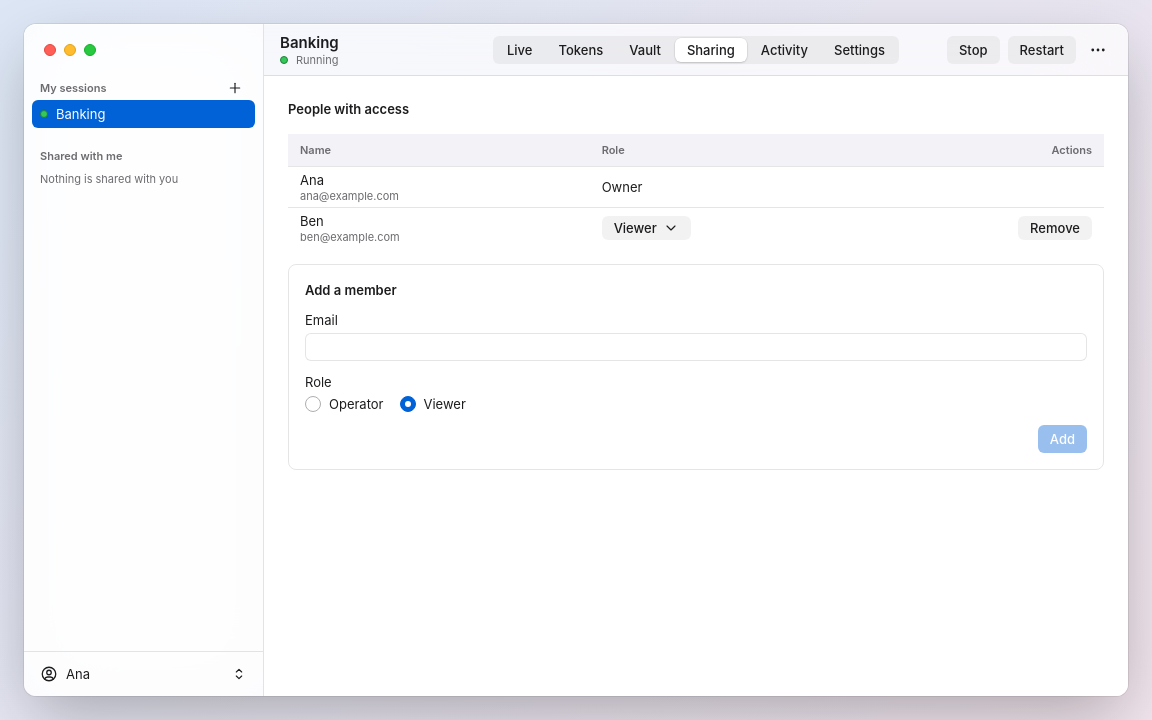
Test: Sharing view › shows the errors of a failed role change and a failed removal
The image size is (1152, 720).
Click the button with aria-label "Role of Ben: Viewer" at (646, 228), box [602,216,691,240]
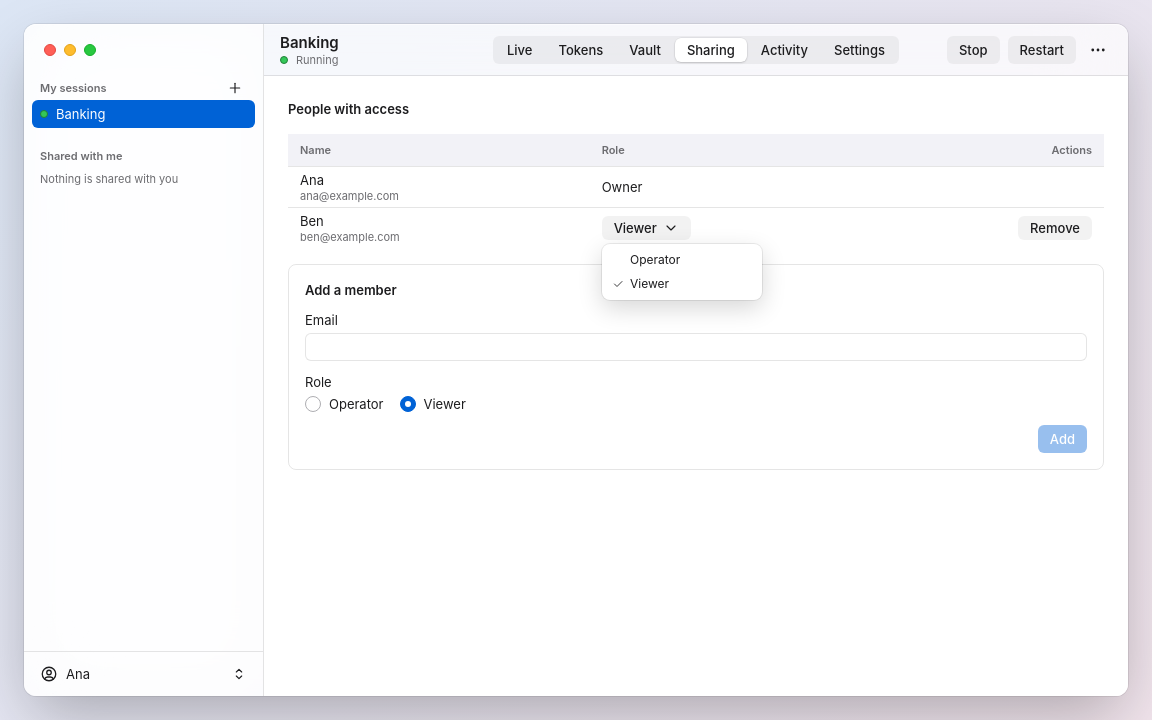
Click the menu item "Operator" at (655, 260), box [630,252,680,267]
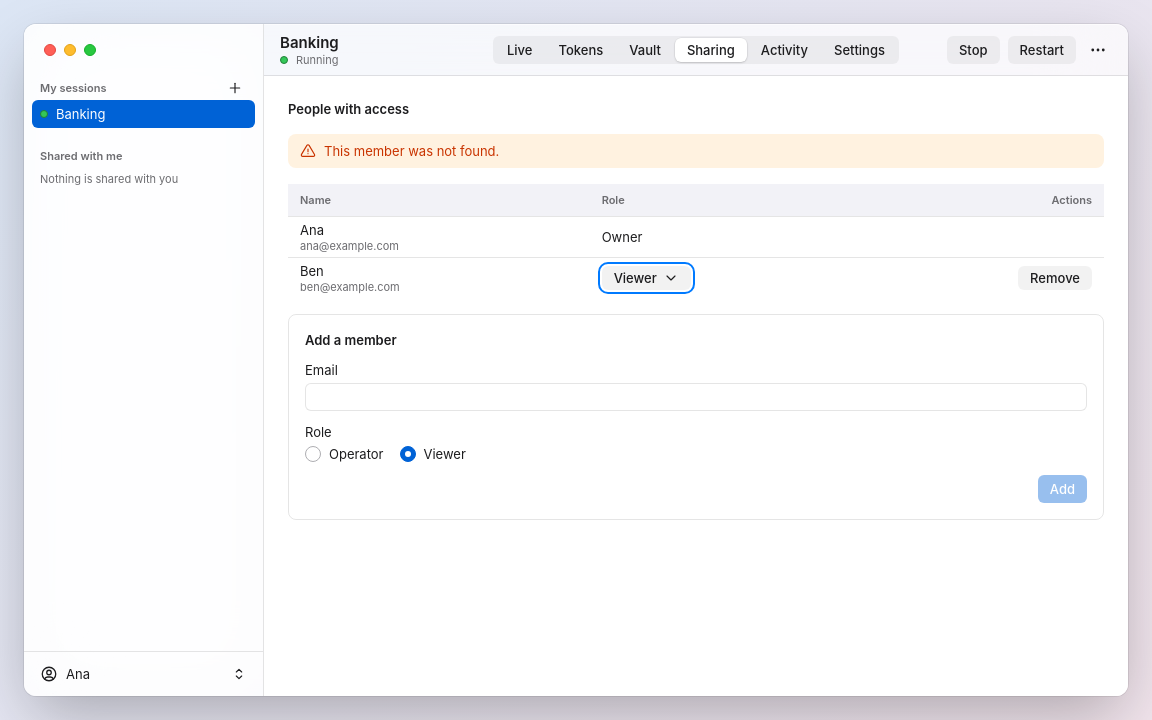
Expected: the text "This member was not found." is shown, [324,142,499,160]
Click the button with aria-label "Remove Ben" at (1055, 278), box [1018,266,1092,290]
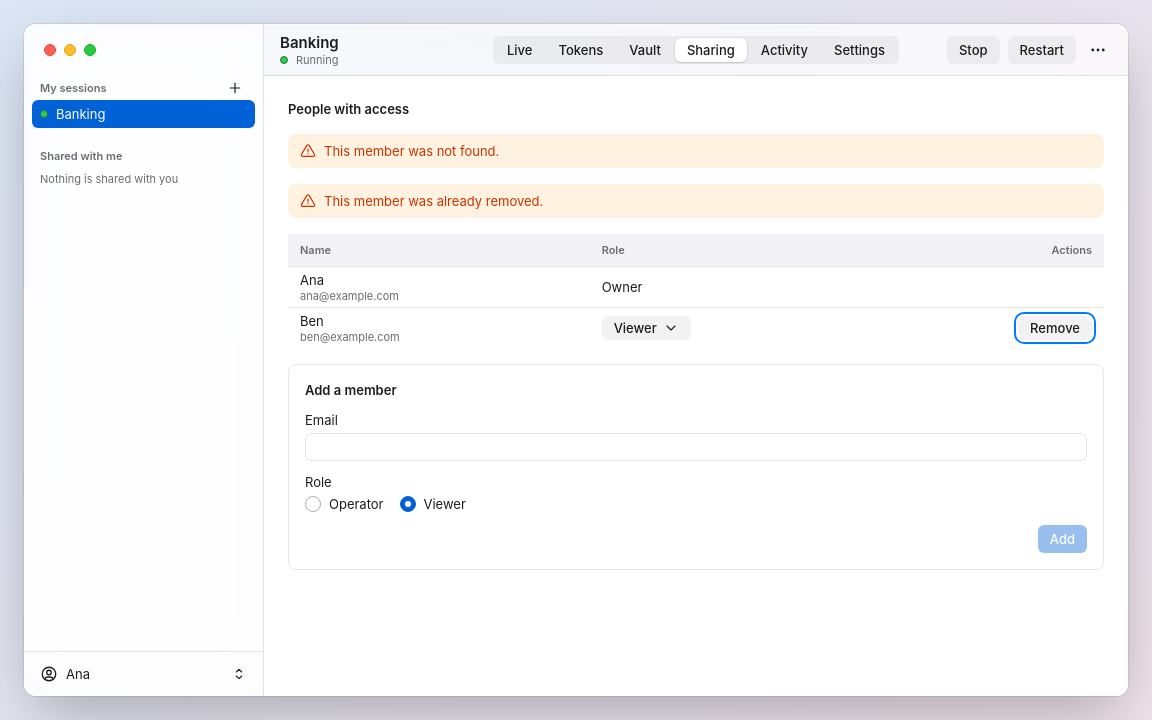
Expected: the text "This member was not found." is shown, [324,142,499,160]
Expected: the text "This member was already removed." is shown, [324,192,543,210]
